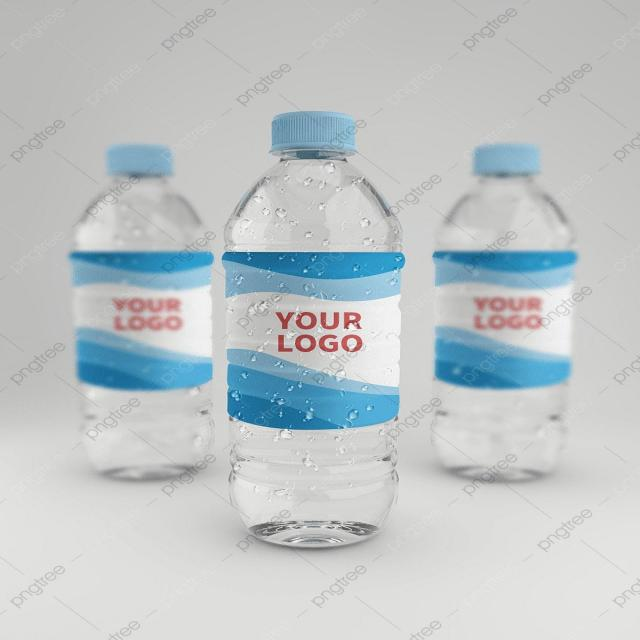bottle: (212, 94, 416, 566), (58, 130, 228, 508)
